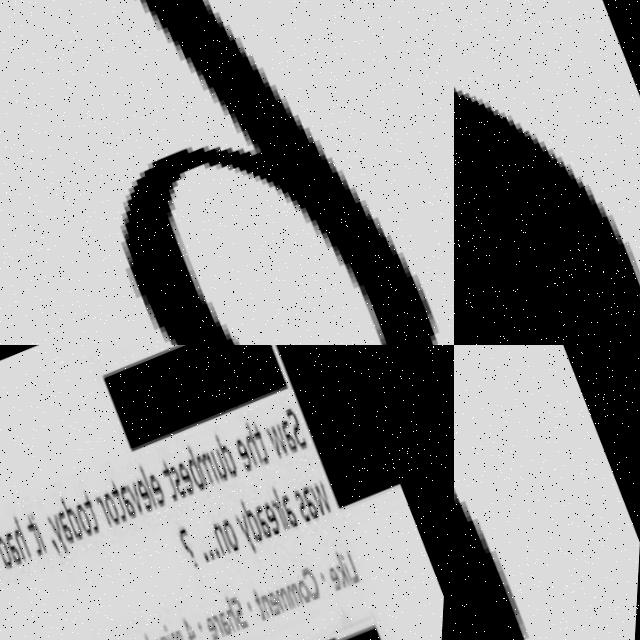0: (454, 345, 610, 640), (181, 611, 205, 640)
B: (128, 0, 446, 345)
C: (454, 0, 640, 345)
